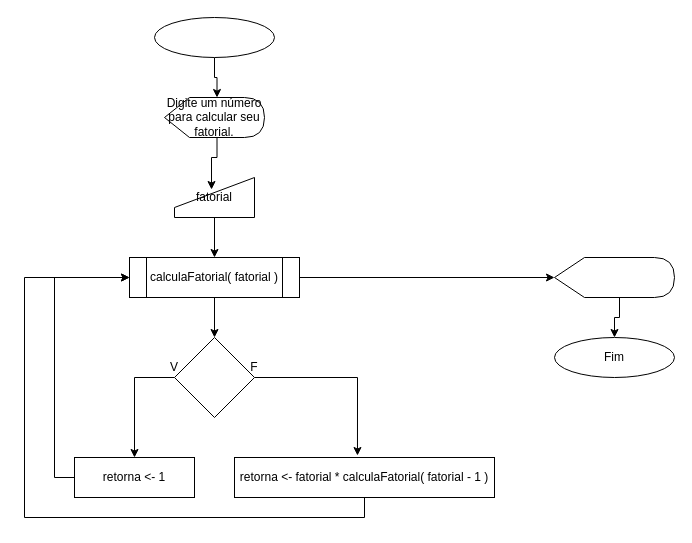
This 692x543 diagram has some shape labels left out. The shapes that lost their labels are listed below. From the top down, each one's box as (x1, y1, x2, y2) in pixels, then its label:
(154, 16, 274, 58): Início
(554, 256, 674, 298): Fatorial calculado: resultado_fatorial
(174, 336, 254, 418): fatorial <= 1
